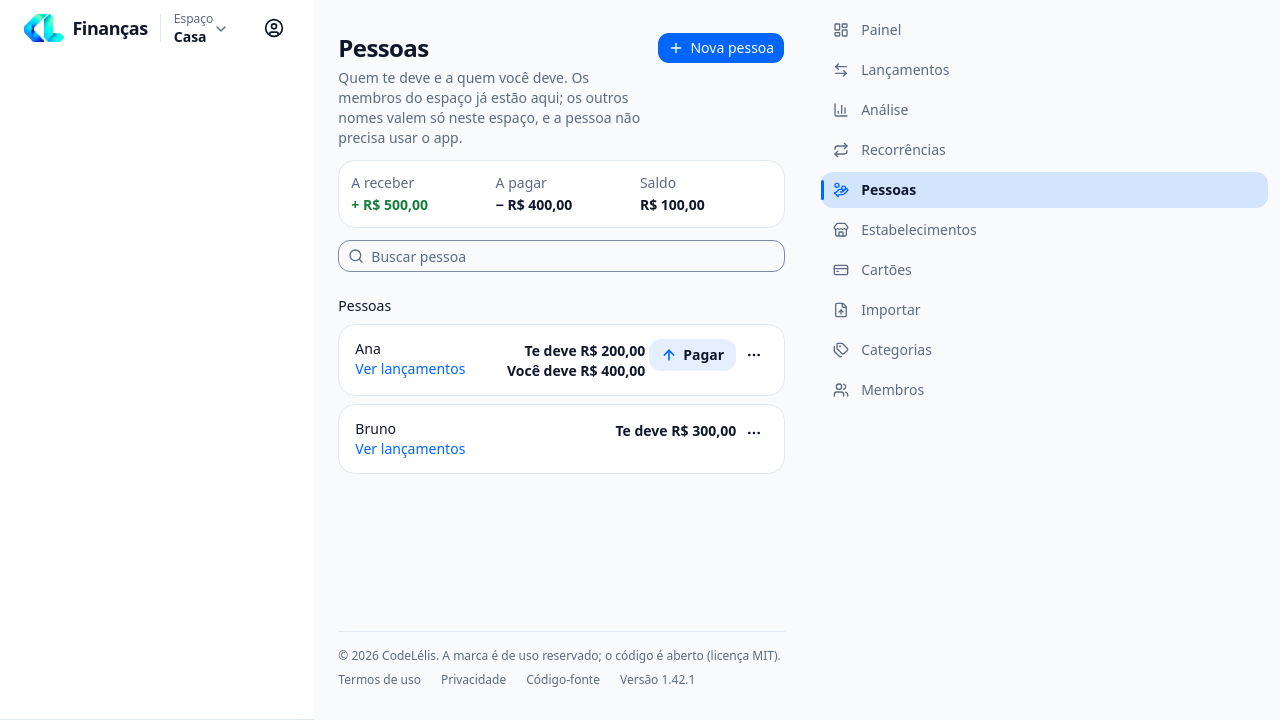
Pagar a Ana › is offered only for someone you owe now
Expected: the button with aria-label "Pagar: Ana" reads "Pagar", x1=649 y1=339 x2=736 y2=371
# The button already says it: the menu does not repeat it.
What coordinates should you click on to do the following:
click the button named "Ações de Ana"
I would click on:
 (754, 355)
Its box is x1=740 y1=341 x2=768 y2=369.
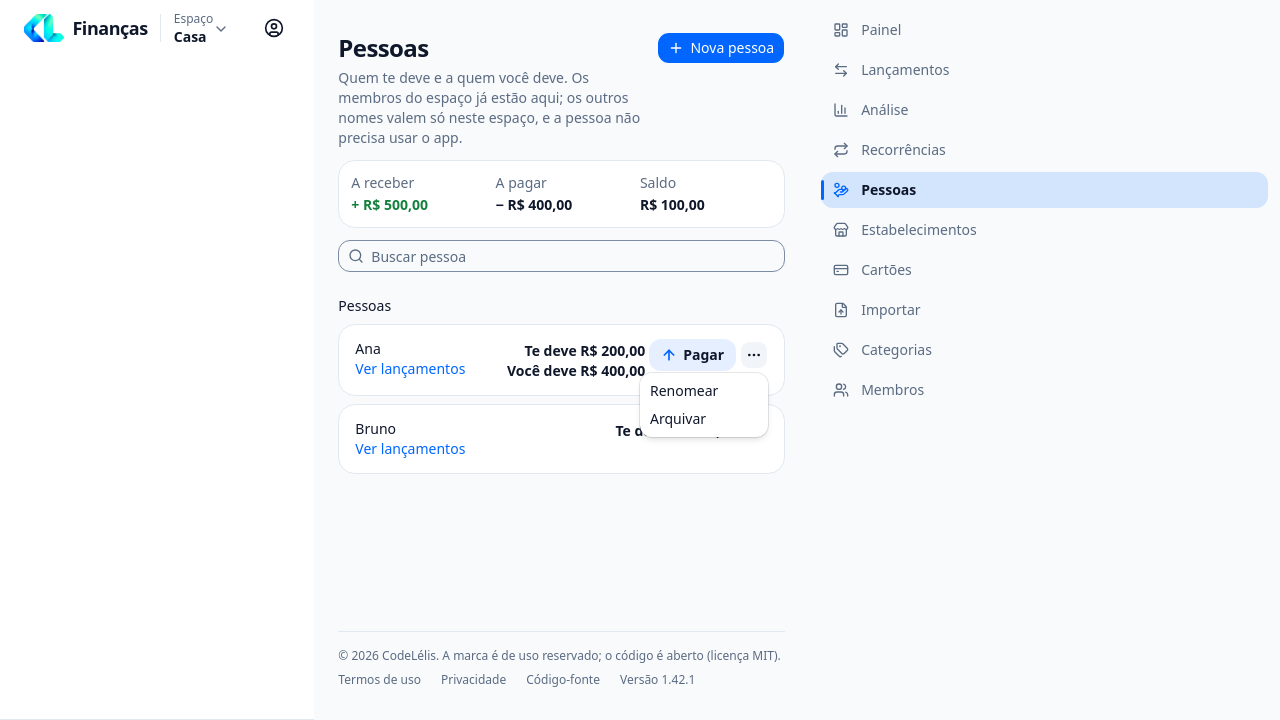
Expected: the menu item "Renomear" is shown, x1=650 y1=381 x2=718 y2=400
